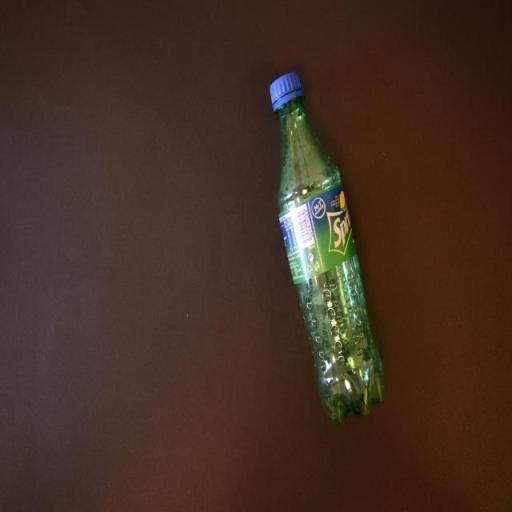plastic: (268, 72, 386, 426)
